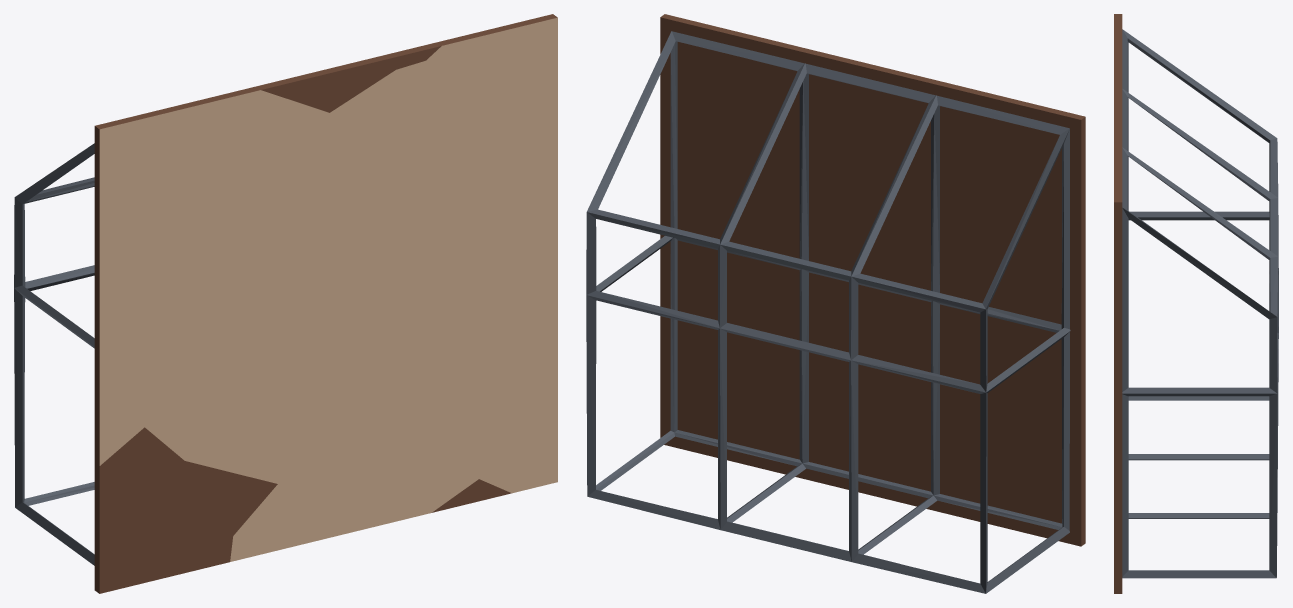
File: Billboard2.fbx
3 views of the same model, side by side, from view 1: azimuth 30°, elevation 25°; view 2: azimuth 150°, elevation 25°; view 3: azimuth 270°, elevation 25° (orthographic). The views are drawn at different scales.
Visible parts, largest first — view 1: Billboard2; view 2: Billboard2; view 3: Billboard2.
Boxes of the visible parts, x1,y1,x2,y2 form: Billboard2: (14,14,557,593); Billboard2: (586,14,1085,593); Billboard2: (1114,14,1278,593).
Size of the model in its own units: 260 by 252 by 96.05.
